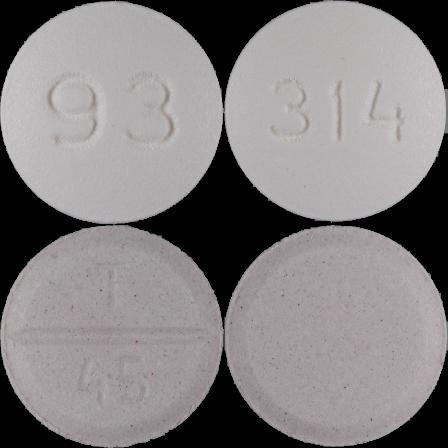21695-432: (0, 0, 224, 224)
